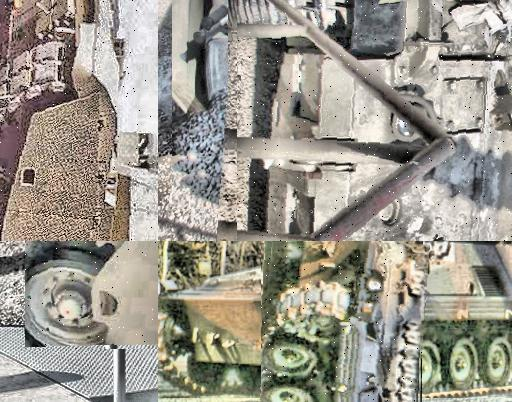tanks: (274, 1, 512, 242), (1, 1, 157, 242), (262, 242, 422, 402), (26, 242, 159, 347)
